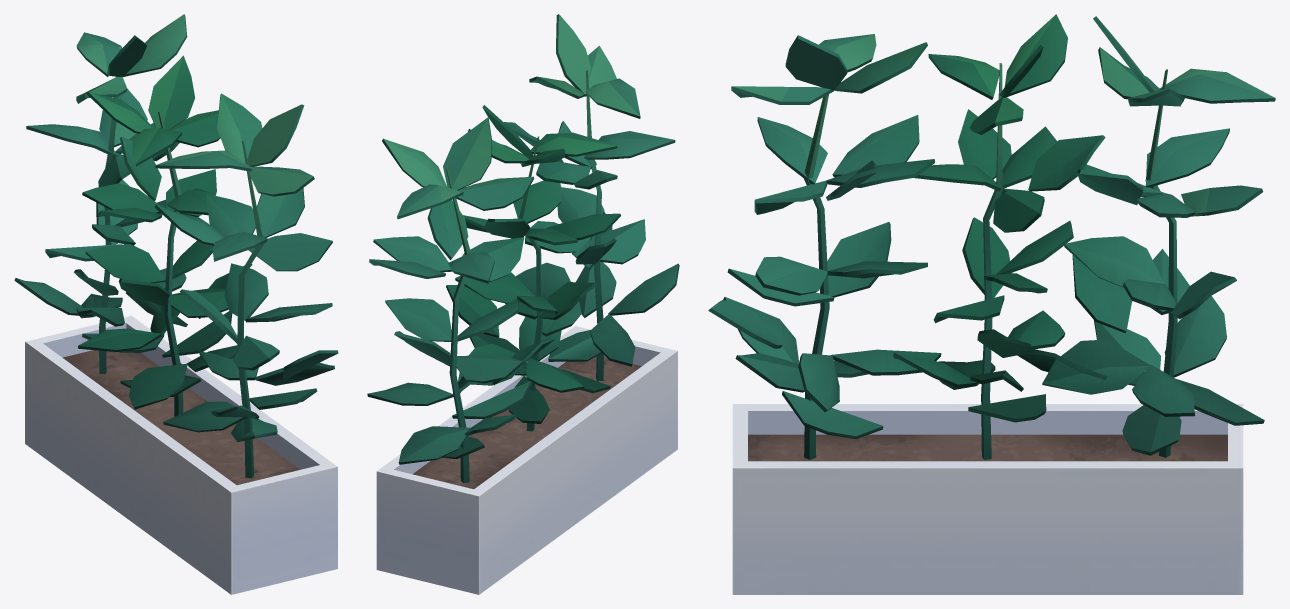
Rendered from my_poolparty_01_b_pot_01.glb.
3 renders of one model, left to right at view 1: azimuth 30°, elevation 25°; view 2: azimuth 150°, elevation 25°; view 3: azimuth 270°, elevation 25°, orthographic. The views are drawn at different scales.
Parts seen in each view (by area): view 1: my_poolparty_01_b_pot_01; view 2: my_poolparty_01_b_pot_01; view 3: my_poolparty_01_b_pot_01.
Part boxes in pixels (bbox=[...]): my_poolparty_01_b_pot_01: bbox=[14, 14, 338, 594]; my_poolparty_01_b_pot_01: bbox=[367, 14, 679, 594]; my_poolparty_01_b_pot_01: bbox=[708, 14, 1275, 594].
Size of the model in its own units: 0.00346 by 0.00833 by 0.00773.
1 material, 1 textured.
